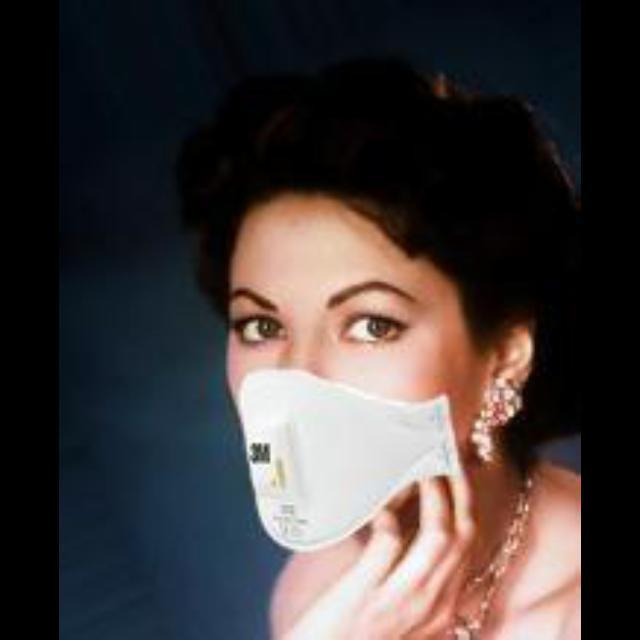suspicion: (213, 111, 565, 551)
